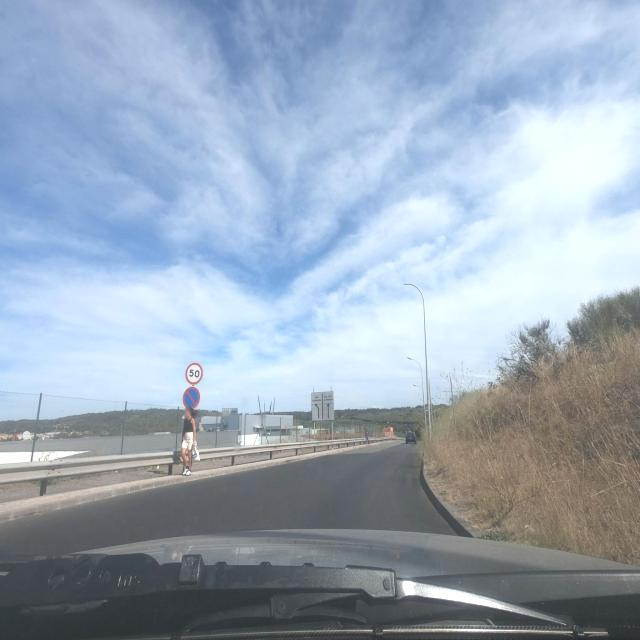car: (405, 432, 417, 444)
